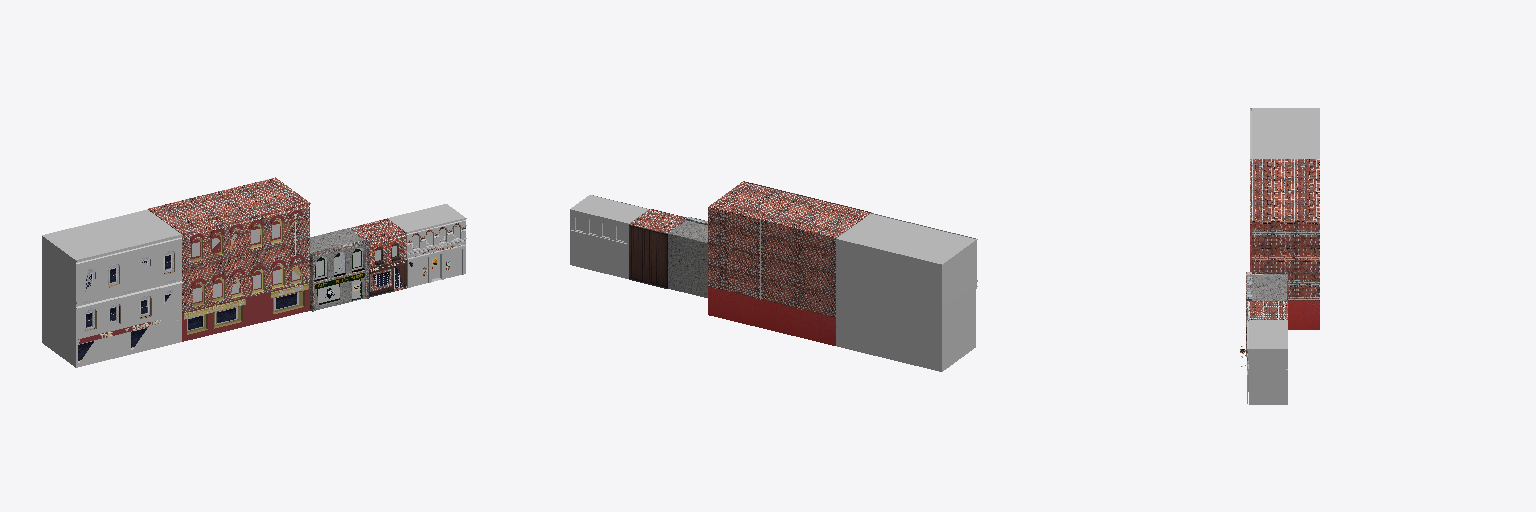
3 renders of one model, left to right at view 1: azimuth 30°, elevation 25°; view 2: azimuth 150°, elevation 25°; view 3: azimuth 270°, elevation 25°, orthographic.
Visible parts, largest first — view 1: Edificio_5; view 2: Edificio_5; view 3: Edificio_5.
Boxes of the visible parts, x1=… form: Edificio_5: x1=42, y1=177, x2=466, y2=367; Edificio_5: x1=570, y1=181, x2=977, y2=371; Edificio_5: x1=1240, y1=108, x2=1319, y2=404.
Bounding box in the file's own units: 261 × 69.62 × 46.74.
Materials: 35 (26 with a texture image).